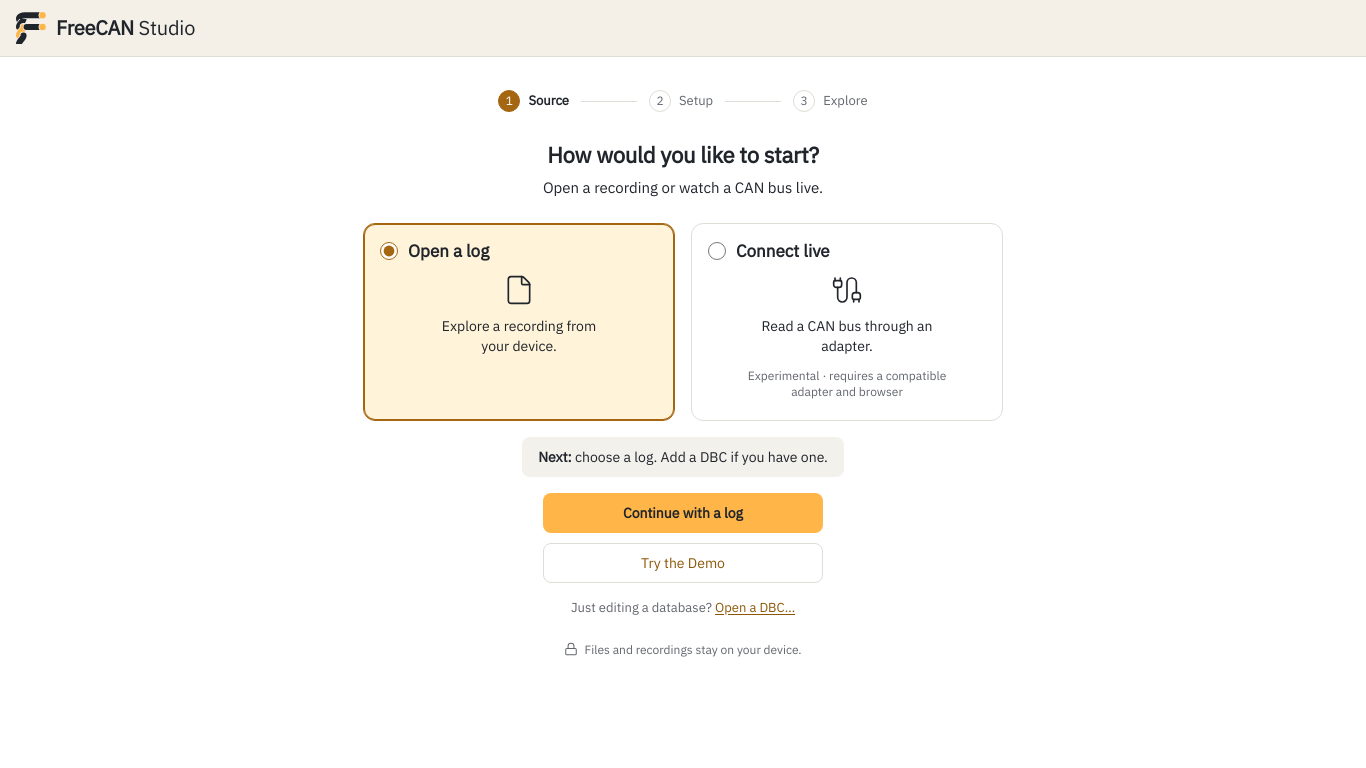
Test: App welcome › opens a dropped log at once, whatever step the welcome is at
Click the radio button labelled "Connect live" at (717, 251), box [708, 242, 726, 260]
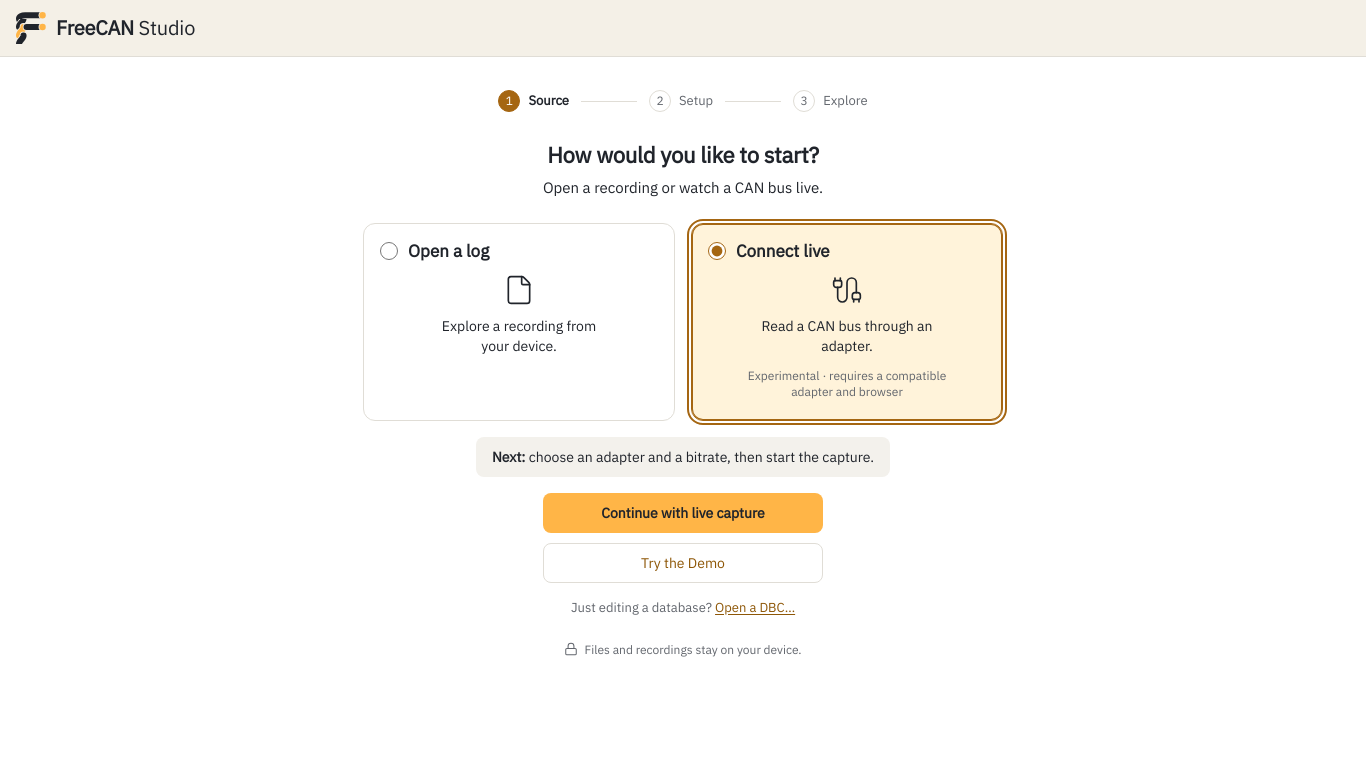
Click the button "Continue with live capture" at (683, 513), box [543, 493, 823, 533]
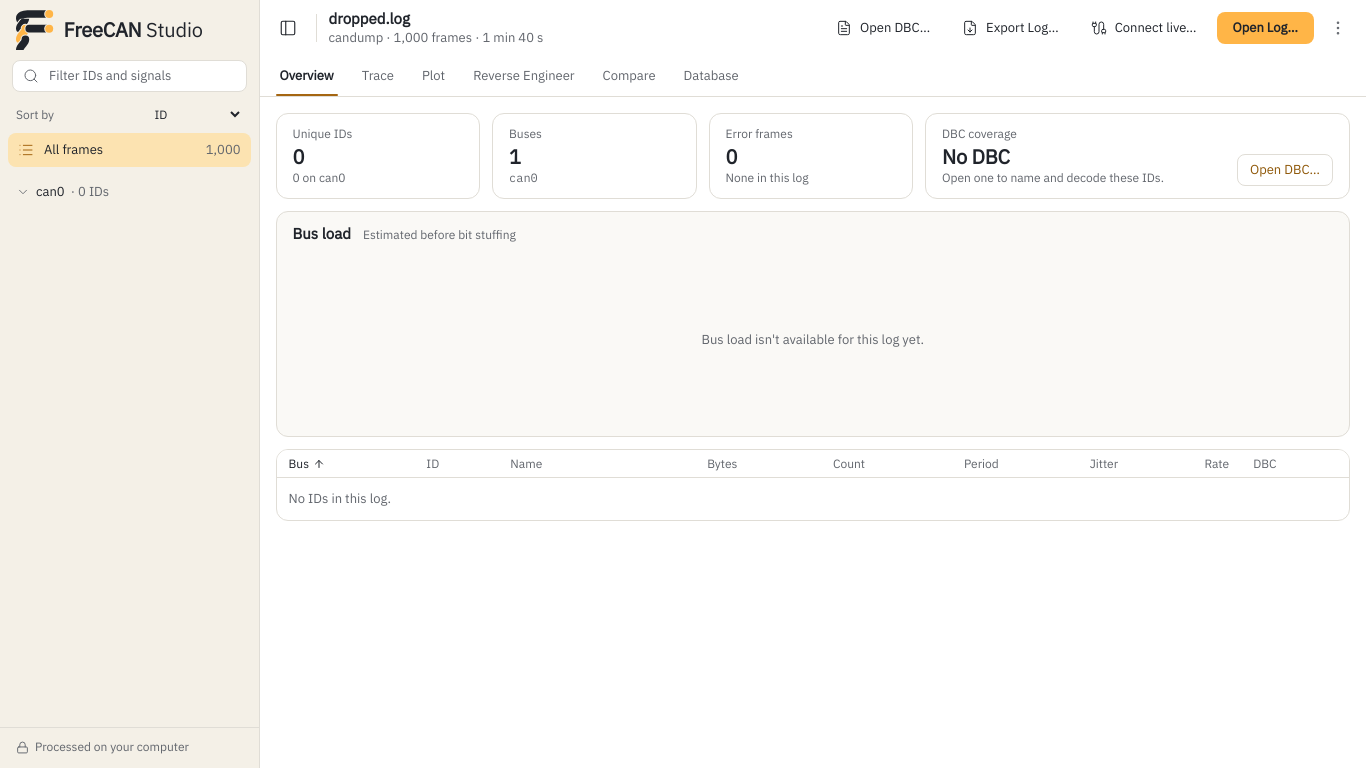
Now the heading with class "doc-title" reads "dropped.log", box [328, 9, 410, 28]
